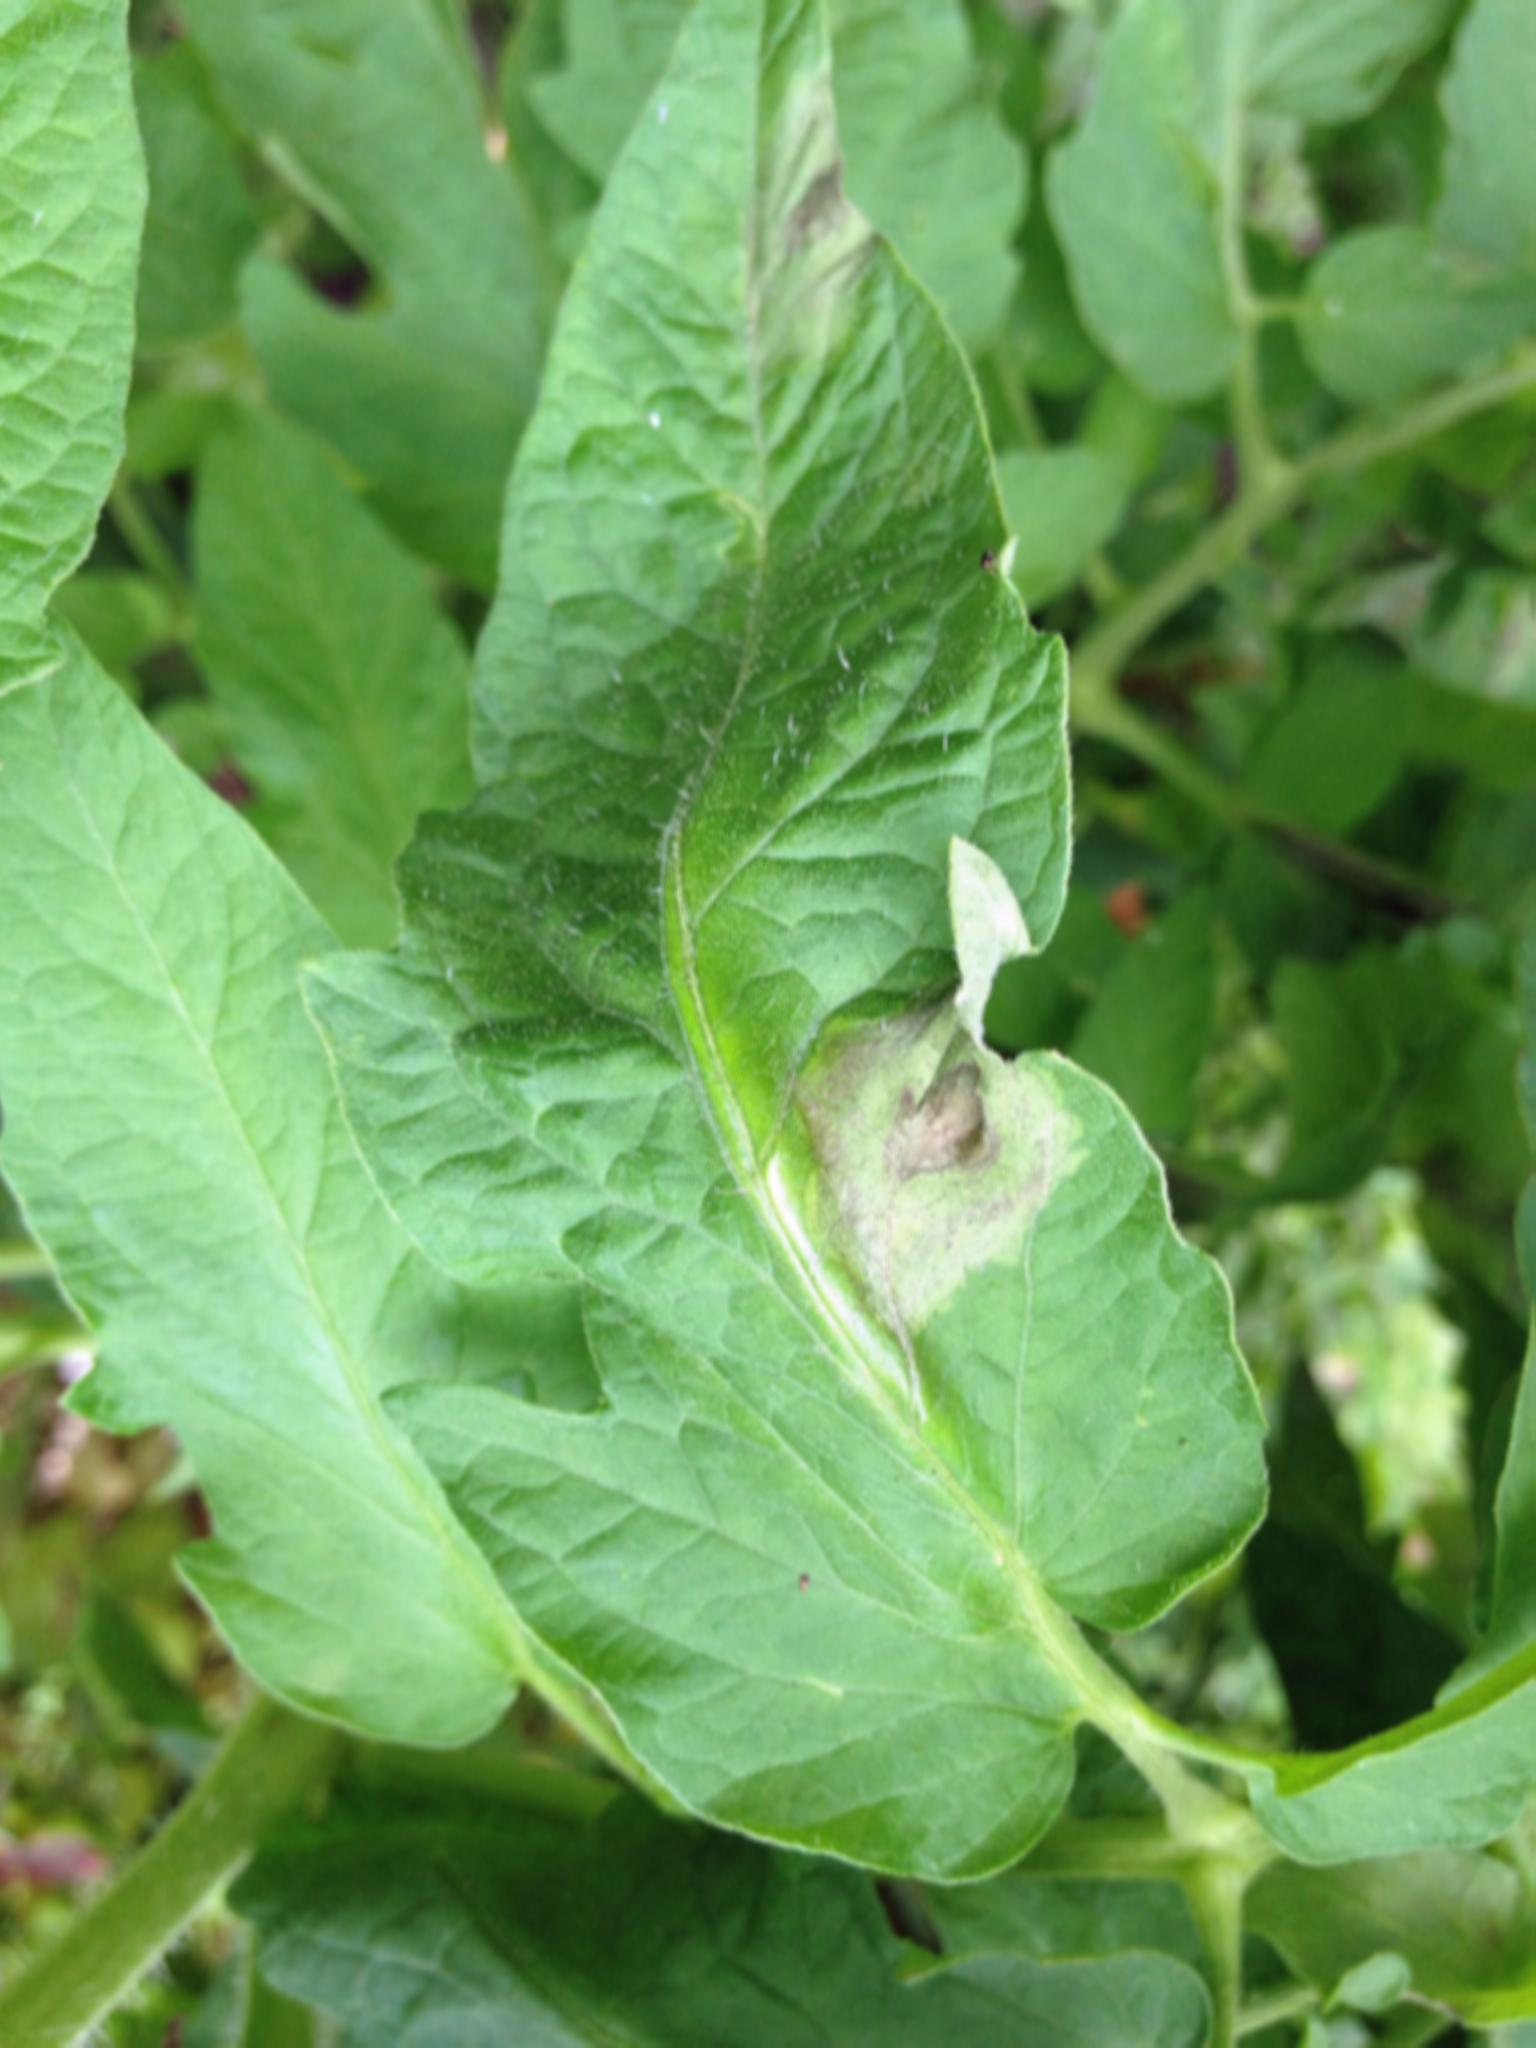Tomato leaf late blight: (329, 19, 1304, 1884)
